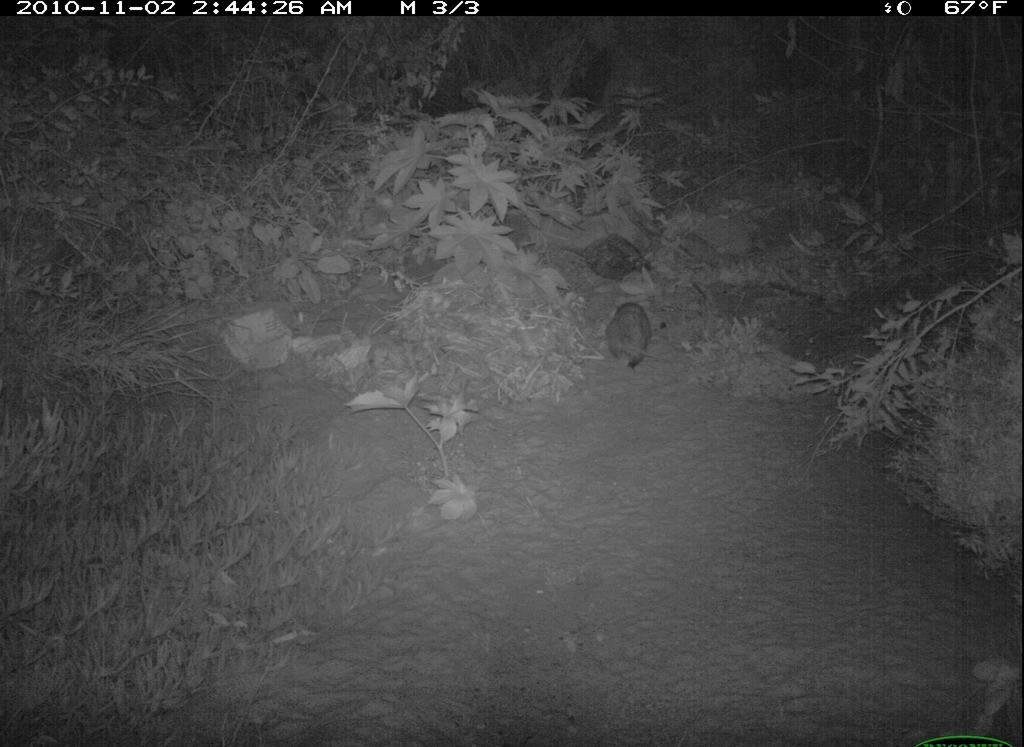opossum: (601, 291, 669, 379)
